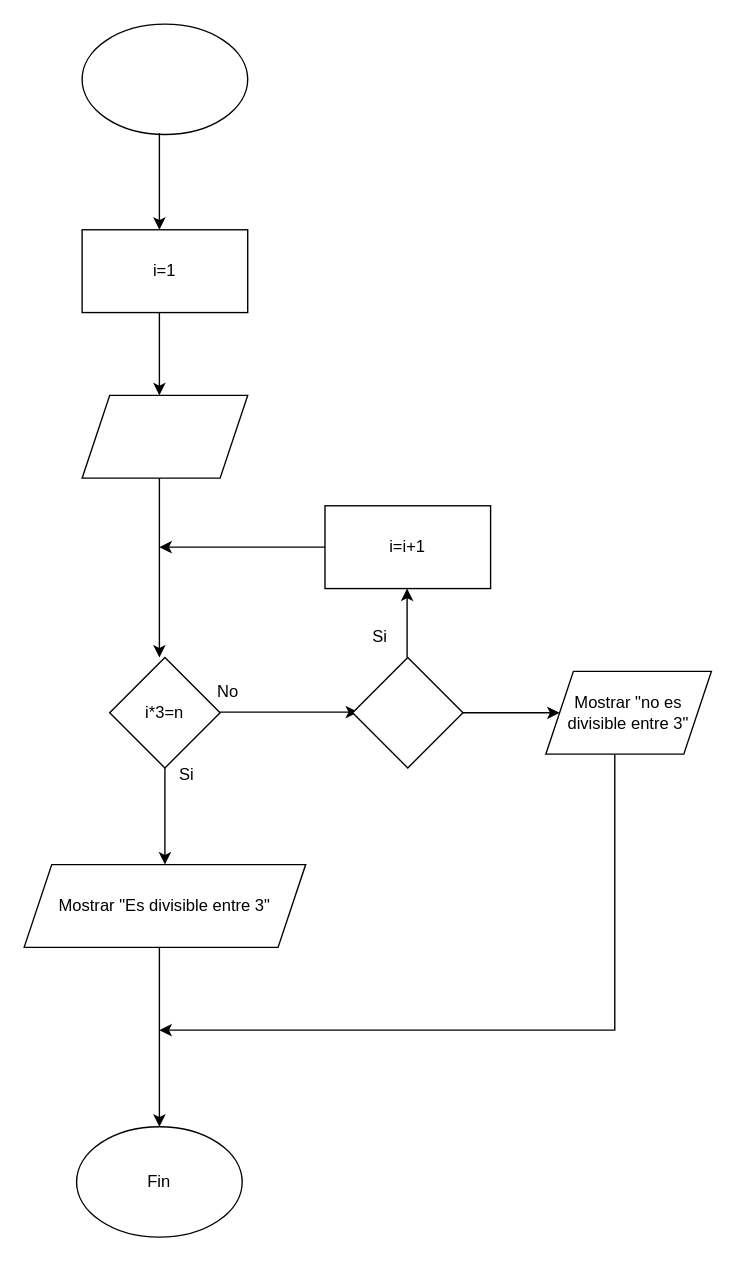
Image size: 736x1261. Some labels were removed from this diagram. The centre of each missing label's shape, as x and y in pixels:
"i*3<n" belongs at (x=407, y=712).
"Inicio" belongs at (x=164, y=79).
"Leer n" belongs at (x=164, y=436).
